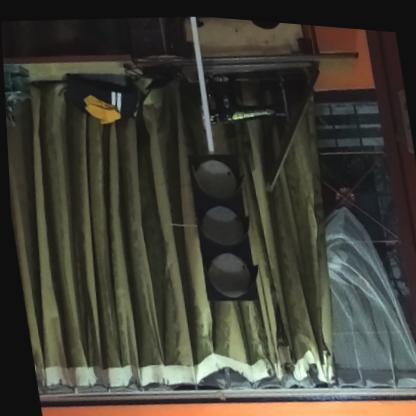green: (181, 147, 258, 302)
